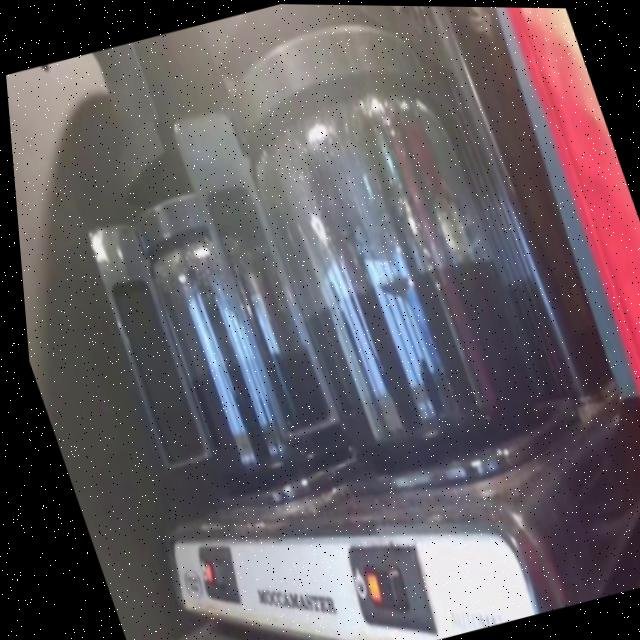coffee: (247, 123, 546, 474), (140, 240, 342, 492)
